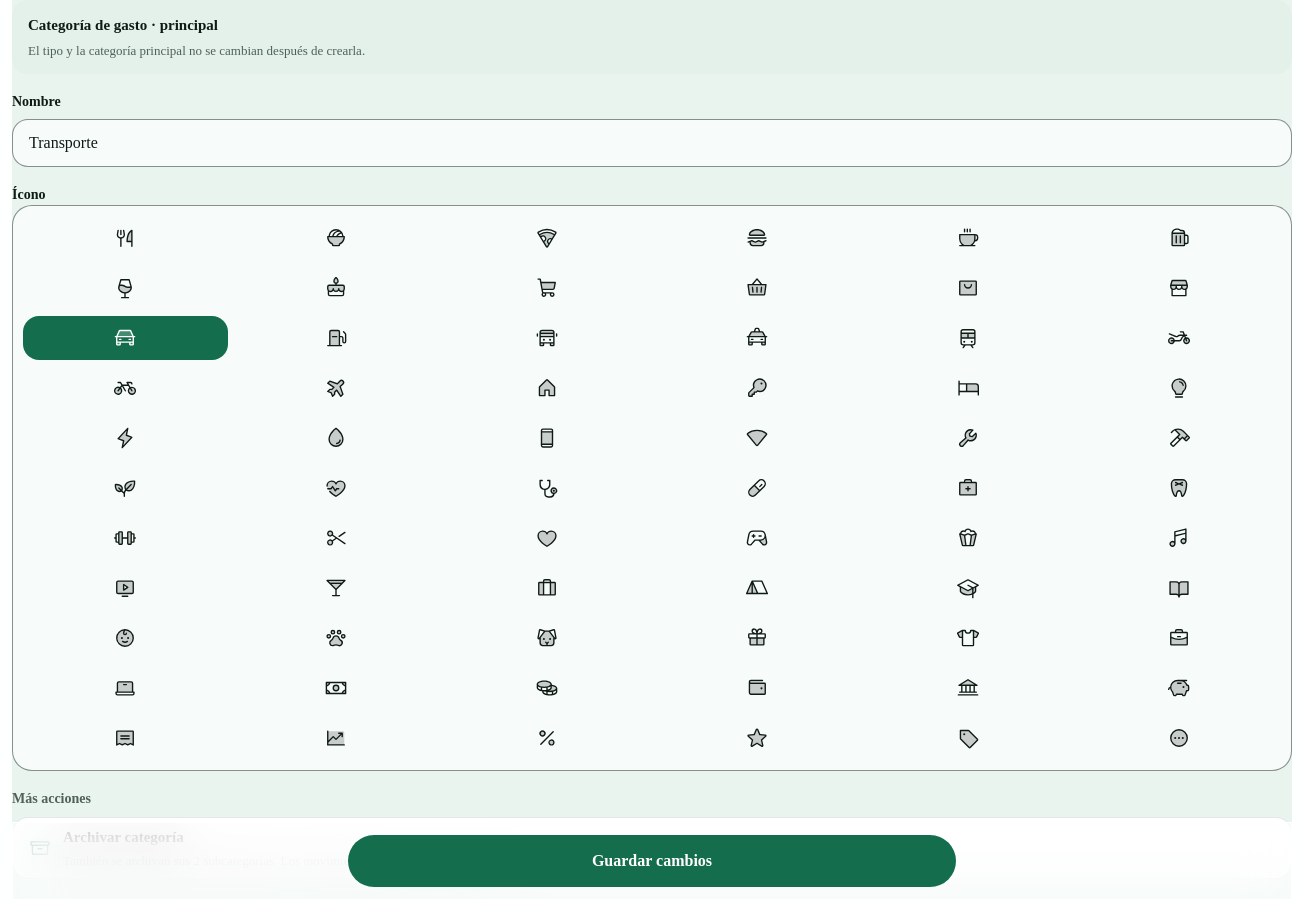
Test: other failures › says there is no connection while the request waits
Replace the text in the field labelled "Nombre" with "Movilidad". click: {"x": 652, "y": 143}
box: 12,119 -> 1292,167
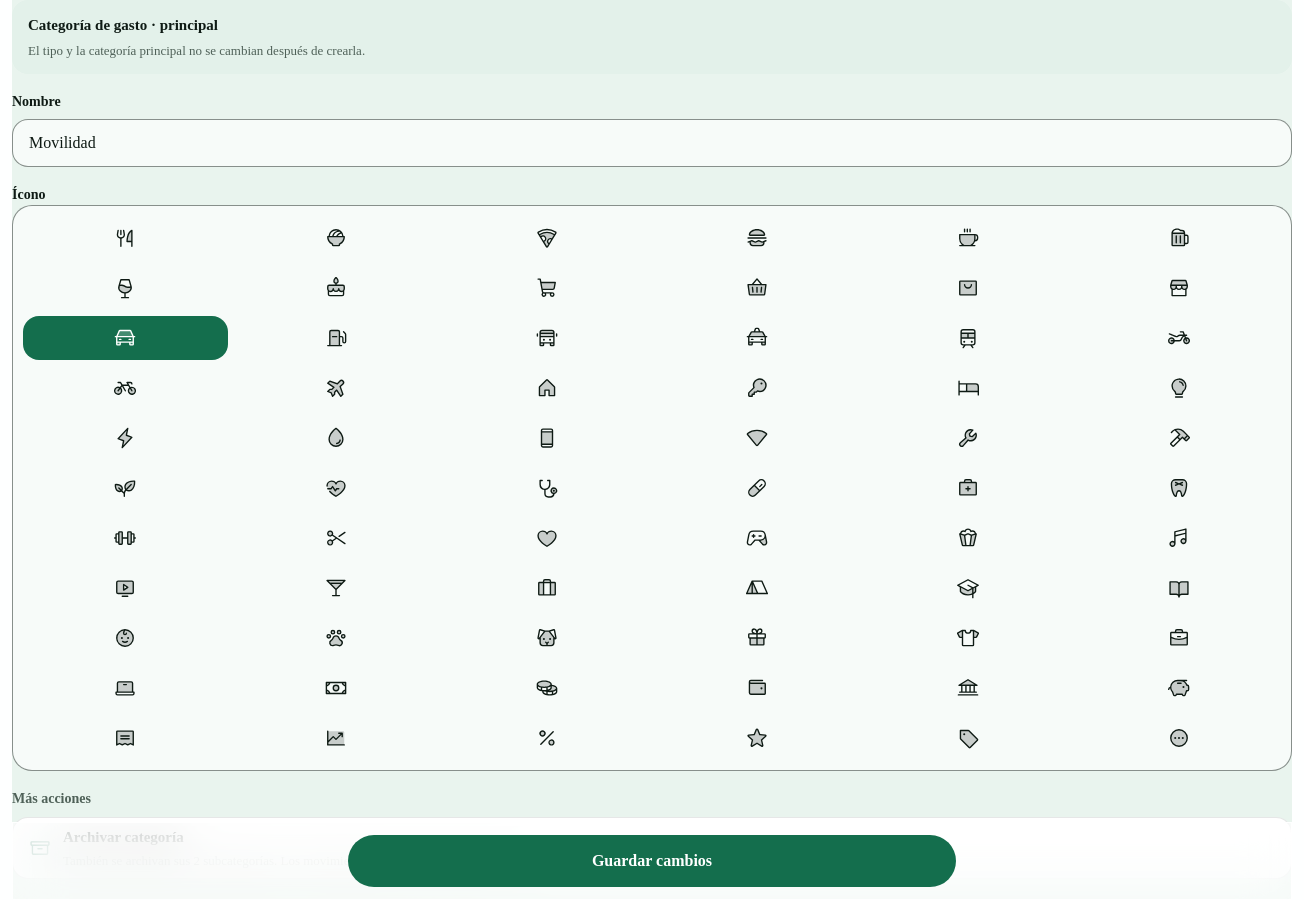
Click the button "Guardar cambios". click: {"x": 652, "y": 861}
box: 348,835 -> 956,887
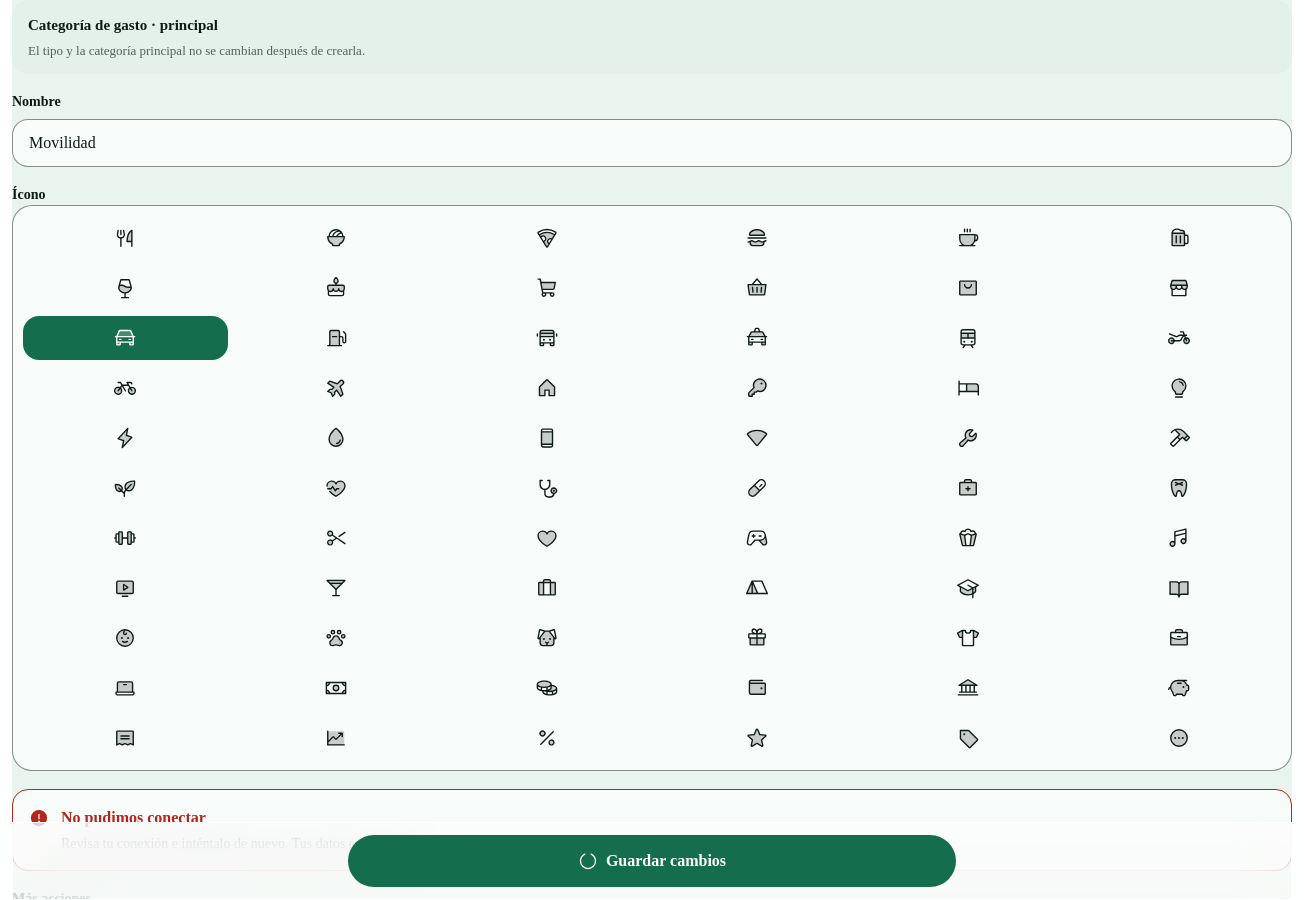
Result: the text "No pudimos conectar" is shown at 61,809 -> 206,826
